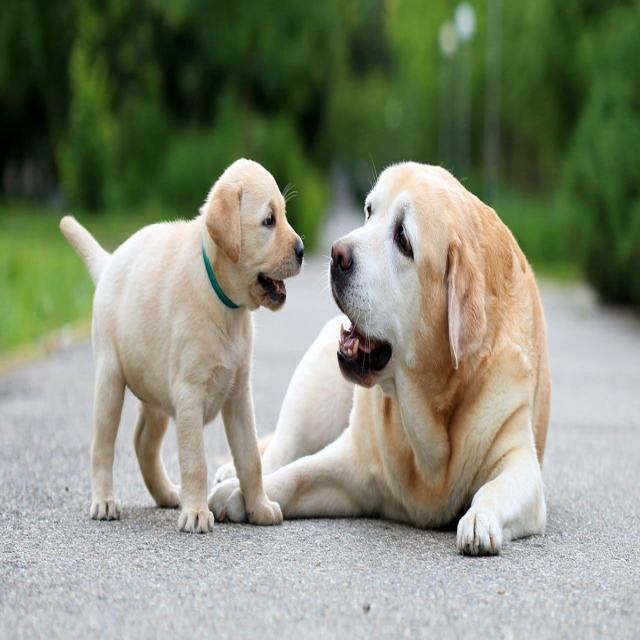dog: (262, 162, 550, 555), (60, 158, 304, 532)
